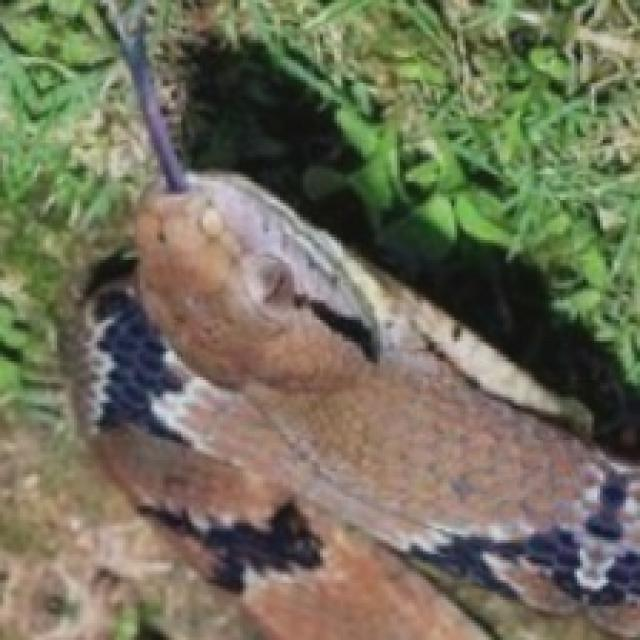dog-toothed cat snake: (89, 134, 637, 637)
